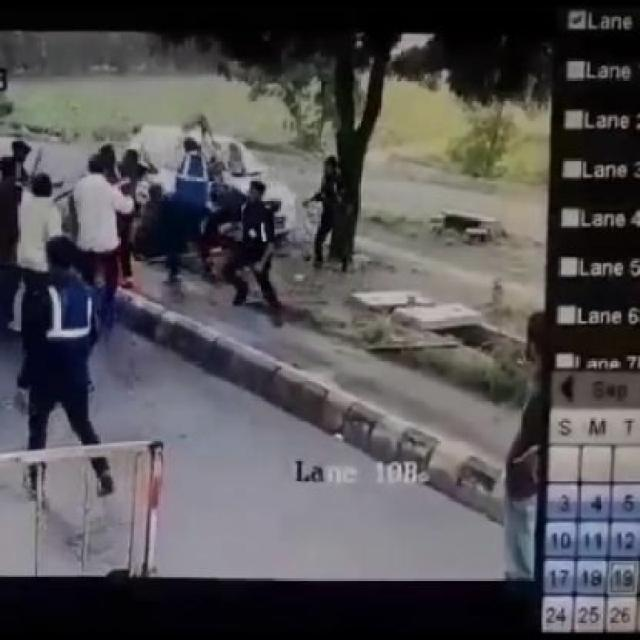non-fight: (16, 232, 120, 509), (2, 167, 68, 342), (70, 150, 140, 304), (221, 177, 285, 318), (163, 133, 219, 291), (296, 153, 357, 277)
